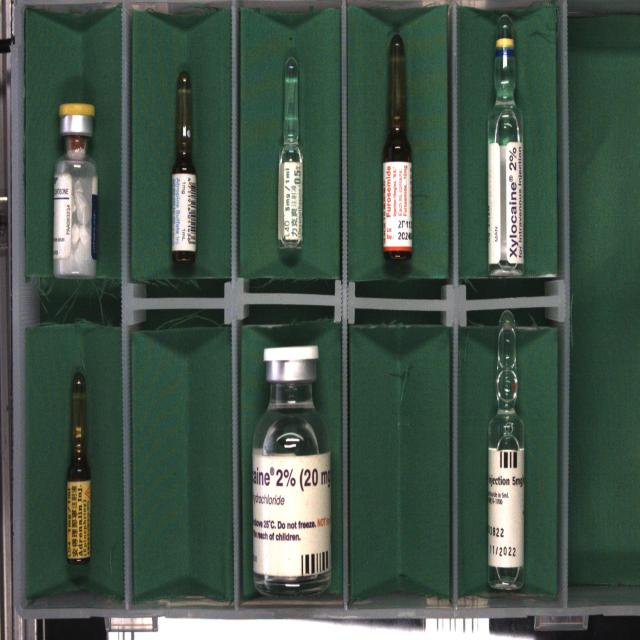Vials: (252, 346, 331, 594), (53, 103, 98, 279)
